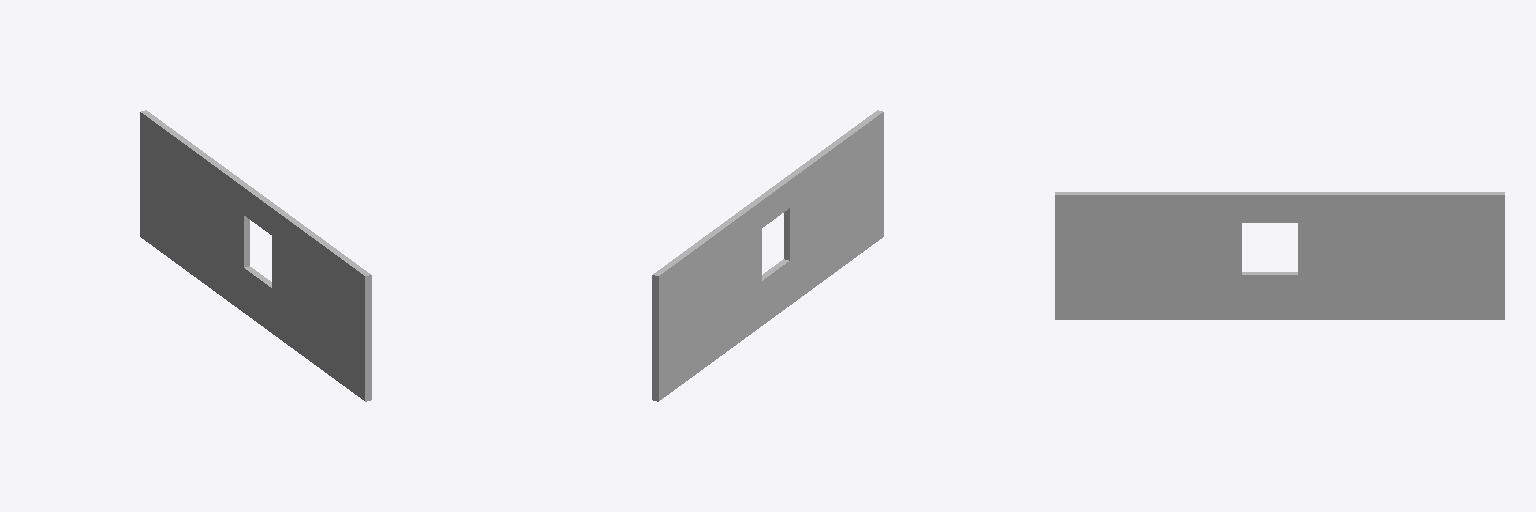
Rendered from window-wall.obj.
The picture shows the model from 3 angles: view 1: azimuth 30°, elevation 25°; view 2: azimuth 150°, elevation 25°; view 3: azimuth 270°, elevation 25°; orthographic projection.
Parts seen in each view (by area): view 1: Plane_Plane.001; view 2: Plane_Plane.001; view 3: Plane_Plane.001.
Part boxes in pixels (left/top/right/bottom): Plane_Plane.001: left=140, top=110, right=371, bottom=401; Plane_Plane.001: left=652, top=110, right=883, bottom=401; Plane_Plane.001: left=1055, top=192, right=1504, bottom=319.
Size of the model in its own units: 15 by 289 by 940.